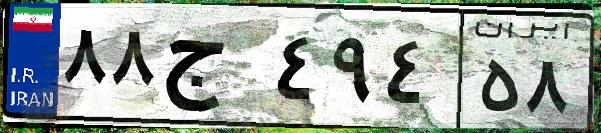4: (270, 28, 330, 110), (385, 28, 445, 110)
5: (475, 38, 525, 113)
8: (57, 26, 110, 100), (525, 38, 570, 115), (110, 28, 158, 98)
9: (330, 28, 385, 110)
ج: (158, 20, 270, 120)
